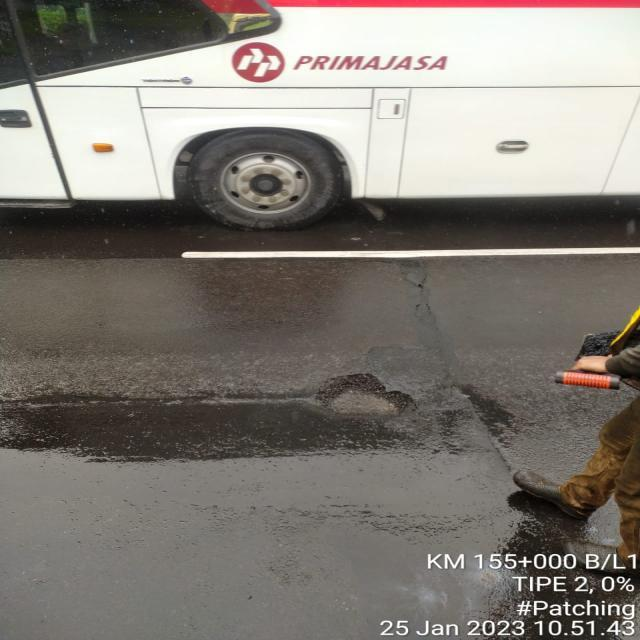Buraco: (311, 371, 422, 420)
